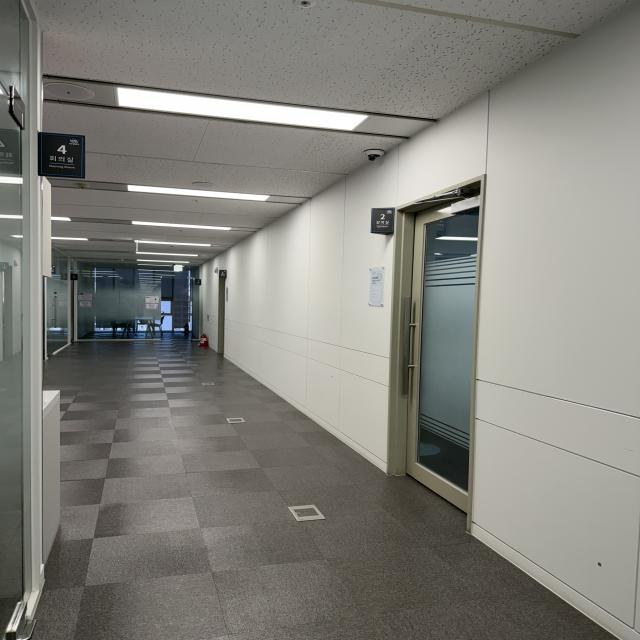room2: (372, 209, 391, 231)
